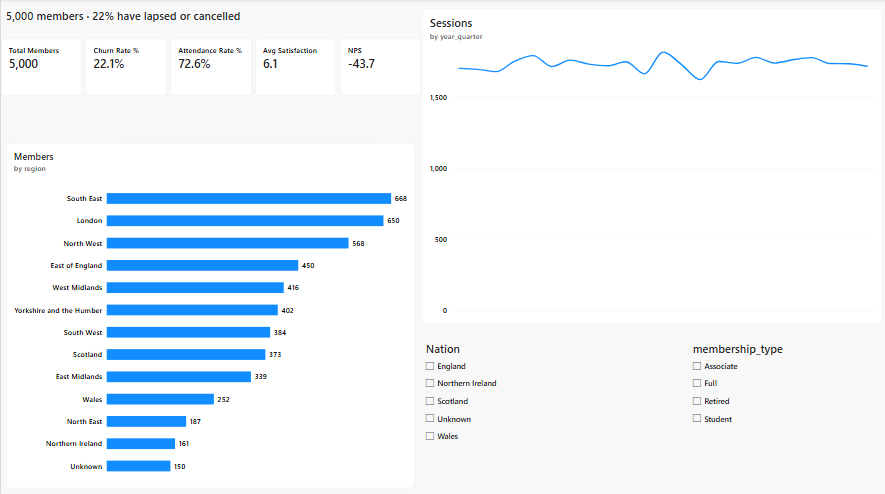

What the dashboard file says about the page in this screenshot:
{"tool":"powerbi","page":{"name":"Overview","canvas":[1920,1080],"ordinal":0},"visuals":[{"type":"cardVisual","fields":{"Data":["-Measures.Members Label","-Measures.Churn Rate %","-Measures.Attendance Rate %","-Measures.Avg Satisfaction","-Measures.NPS"]},"box":[0,84.2,908.4,125.2],"z":0},{"type":"lineChart","fields":{"Category":["dim_date.year_quarter"],"Y":["-Measures.Sessions"]},"box":[908.4,19.6,994.4,682.6],"z":1000},{"type":"barChart","fields":{"Category":["dim_region.region"],"Y":["-Measures.Members"]},"box":[9.8,311.8,883.9,746.4],"z":2000},{"type":"slicer","fields":{"Values":["dim_region.nation"]},"box":[909.4,738.7,550.8,317.5],"z":3000},{"type":"slicer","fields":{"Values":["dim_member.membership_type"]},"box":[1486.1,738.7,434.2,276.5],"z":4000},{"type":"textbox","title":"5,000 members · 22% have lapsed or cancelled","box":[9.8,19.6,822.5,41.7],"z":5000}]}

Visuals, with their boxes in screenshot pixels (x1, y1, x2, y2), scaled from the page's 1920x1080 canvas onto the 885x494 screenshot:
cardVisual - -Measures.Members Label x -Measures.Churn Rate %: {"x1": 0, "y1": 39, "x2": 419, "y2": 96}
lineChart - dim_date.year_quarter x -Measures.Sessions: {"x1": 419, "y1": 9, "x2": 877, "y2": 321}
barChart - dim_region.region x -Measures.Members: {"x1": 5, "y1": 143, "x2": 412, "y2": 484}
slicer - dim_region.nation: {"x1": 419, "y1": 338, "x2": 673, "y2": 483}
slicer - dim_member.membership_type: {"x1": 685, "y1": 338, "x2": 884, "y2": 464}
"5,000 members · 22% have lapsed or cancelled" textbox: {"x1": 5, "y1": 9, "x2": 384, "y2": 28}
